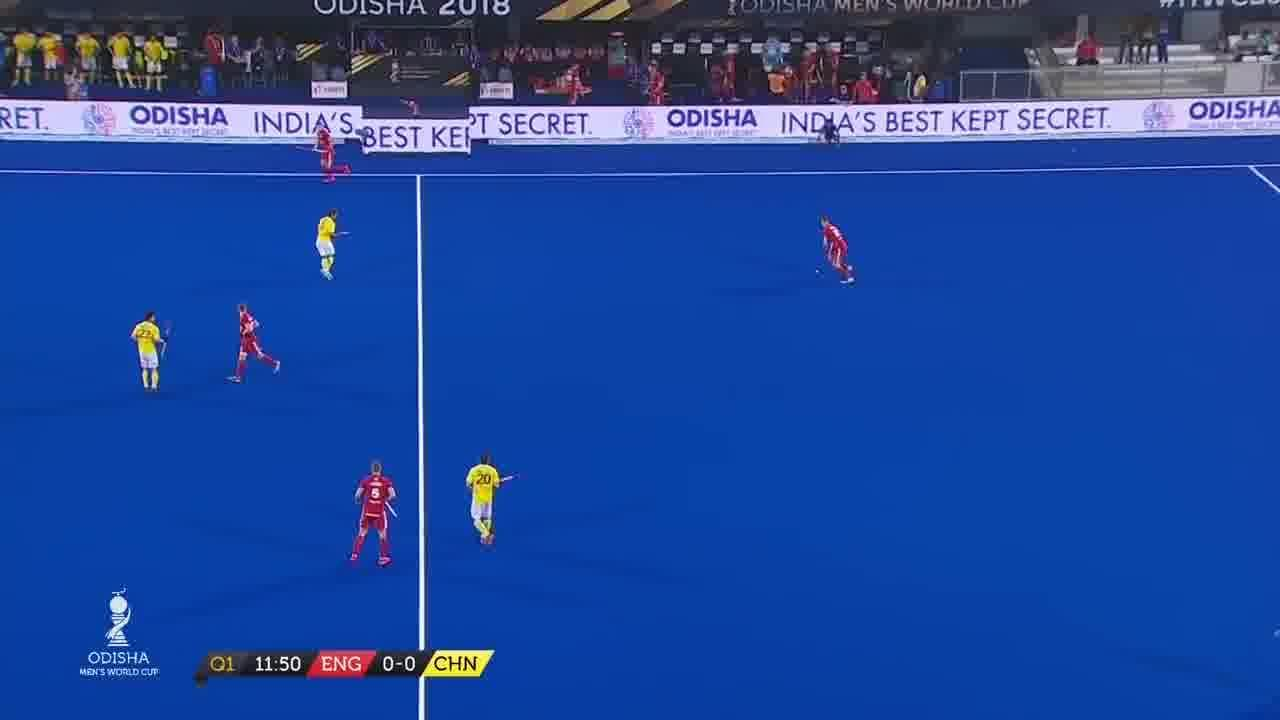ball: (814, 264, 825, 282)
